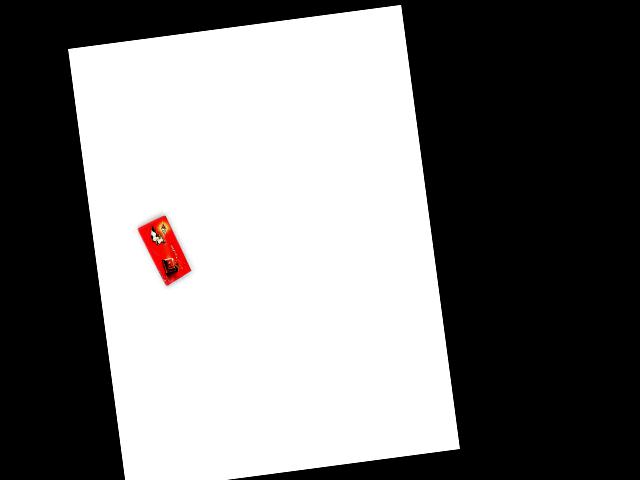chocolate: (136, 214, 193, 289)
